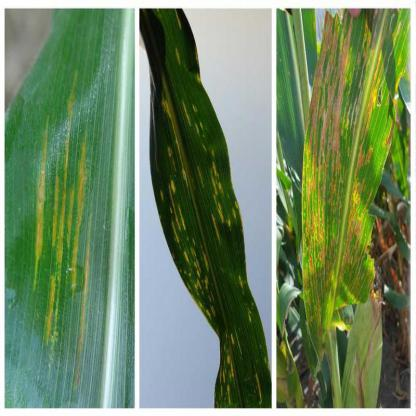Corn leaf blight: (9, 12, 132, 415), (143, 10, 266, 405), (301, 6, 409, 352)
